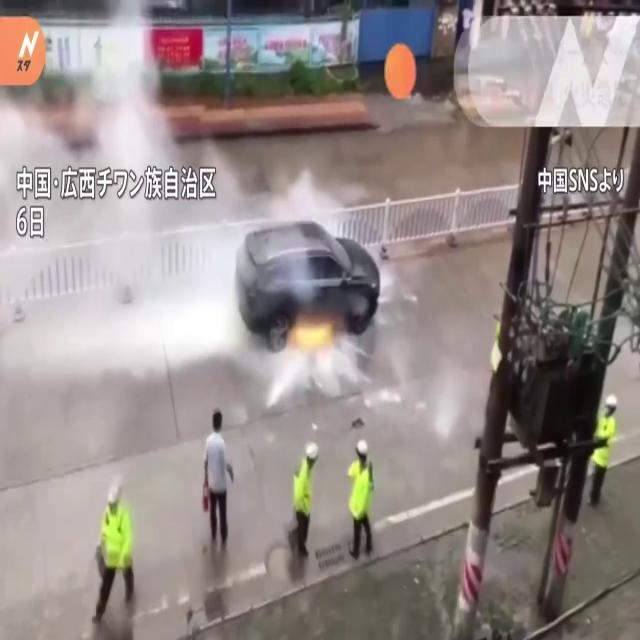Fire: (285, 310, 343, 358)
Smoke: (0, 11, 332, 378)
